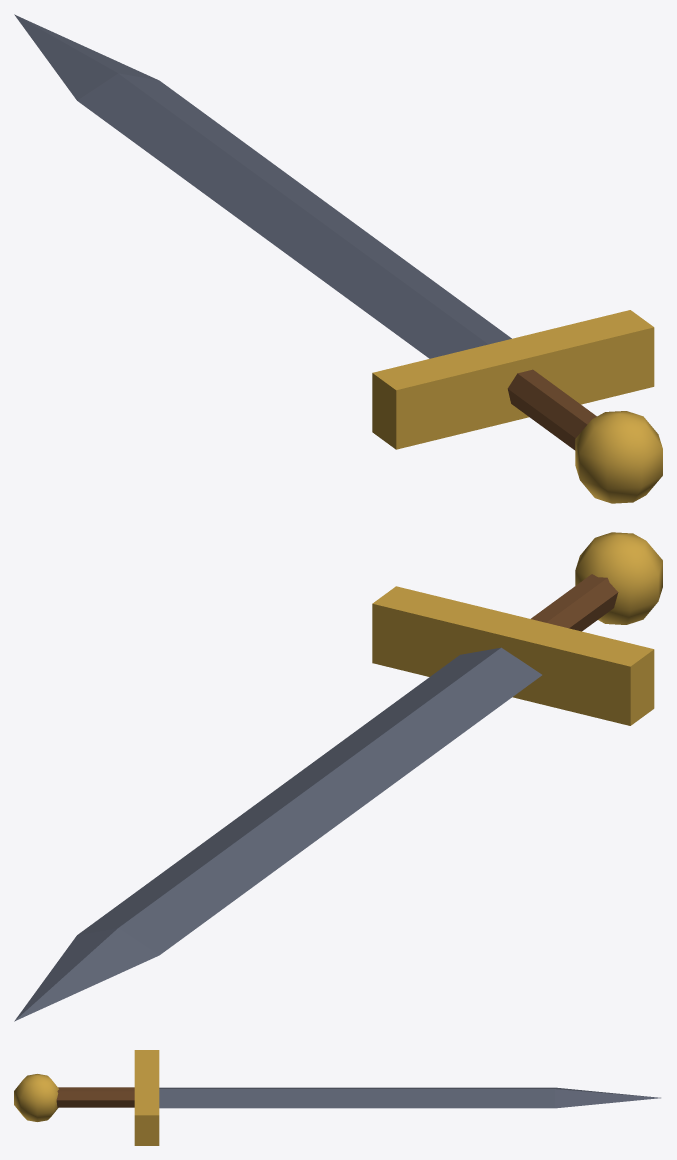
File: Weapon_BossA_Guardblade.fbx
3 views of the same model, one above another, from view 1: azimuth 30°, elevation 25°; view 2: azimuth 150°, elevation 25°; view 3: azimuth 270°, elevation 25° (orthographic). The views are drawn at different scales.
Parts seen in each view (by area): view 1: Weapon_BossA_Guardblade; view 2: Weapon_BossA_Guardblade; view 3: Weapon_BossA_Guardblade.
Part boxes in pixels (x1,y1,x2,y2): Weapon_BossA_Guardblade: (14, 14, 662, 503); Weapon_BossA_Guardblade: (14, 532, 662, 1021); Weapon_BossA_Guardblade: (14, 1050, 660, 1145).
Size of the model in its own units: 0.1 by 0.032 by 0.4212.
